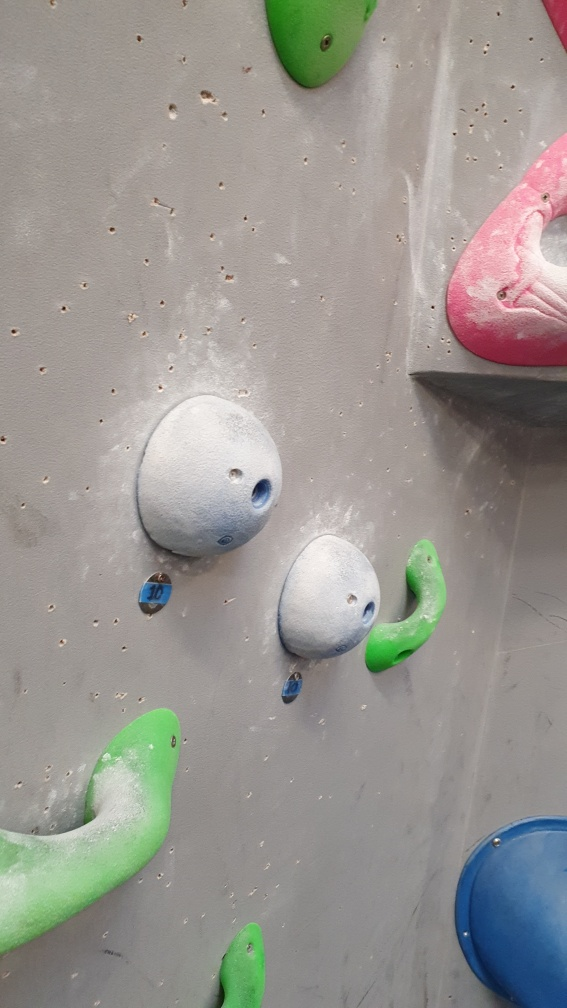Hand Start: (140, 570, 177, 621), (278, 667, 305, 709)
Pocket: (439, 131, 567, 365)
Sloper: (136, 392, 285, 565), (279, 530, 379, 661)
